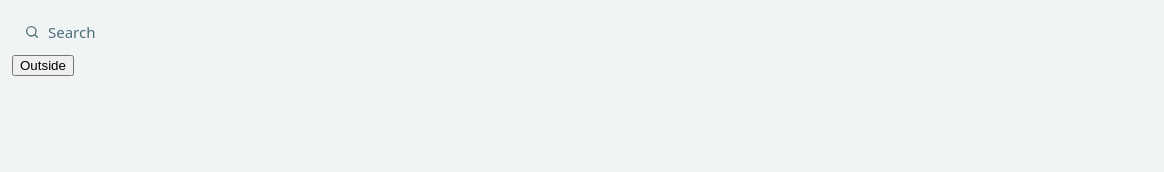
it: no matches says so
Type "zzz" into the dropdown named "Search organizations, contacts and deals" at [600, 32], box [48,12,1152,52]
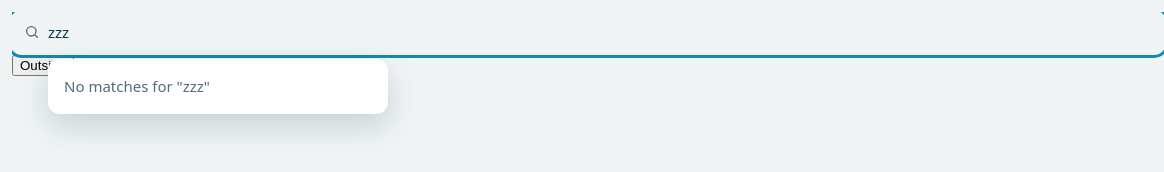
Now the text "No matches for \"zzz\"" is shown, box [64,76,210,96]
